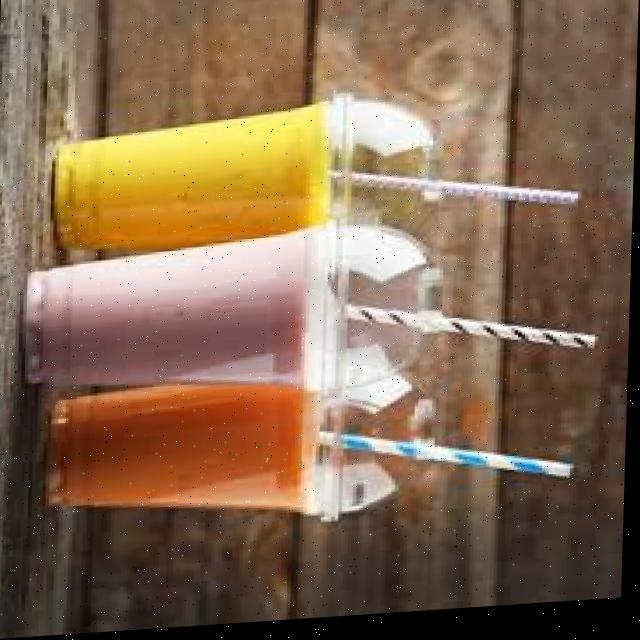cup: (28, 341, 370, 569), (17, 210, 361, 407), (17, 97, 372, 283)
